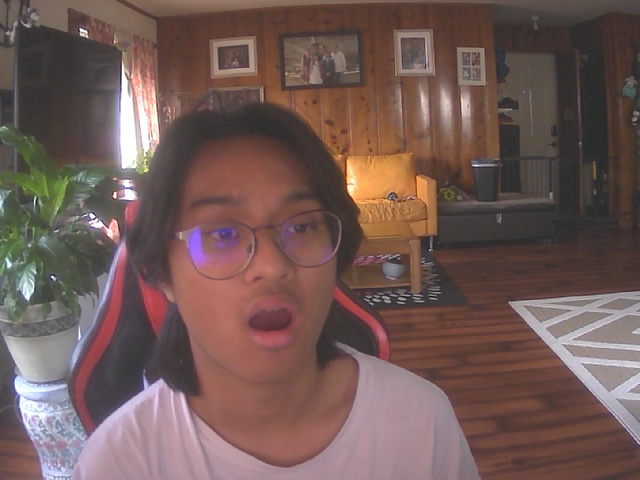fear: (156, 113, 350, 386)
